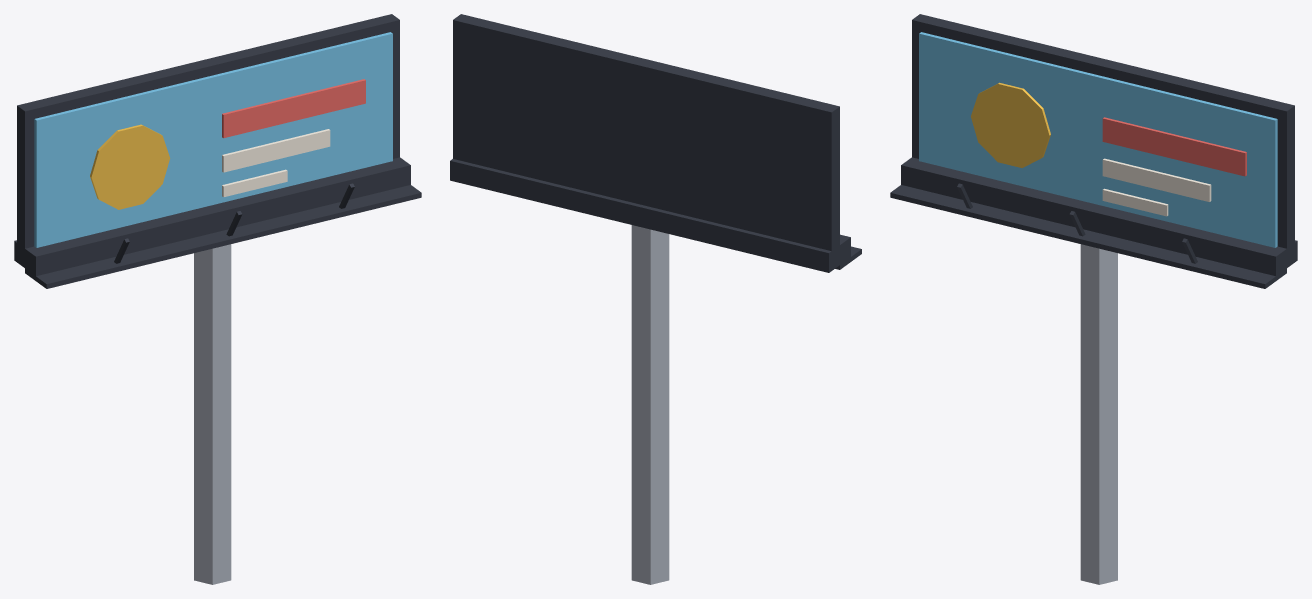
Rendered from billboard_pole.glb.
The picture shows the model from 3 angles, left to right: view 1: azimuth 30°, elevation 25°; view 2: azimuth 150°, elevation 25°; view 3: azimuth 330°, elevation 25°; orthographic projection.
Parts seen in each view (by area): view 1: billboard_pole; view 2: billboard_pole; view 3: billboard_pole.
Part boxes in pixels (box(x1,y1,x2,y2)): billboard_pole: box(14, 14, 421, 584); billboard_pole: box(450, 14, 861, 584); billboard_pole: box(890, 14, 1297, 584).
Size of the model in its own units: 0.4 by 0.52 by 0.0717.
